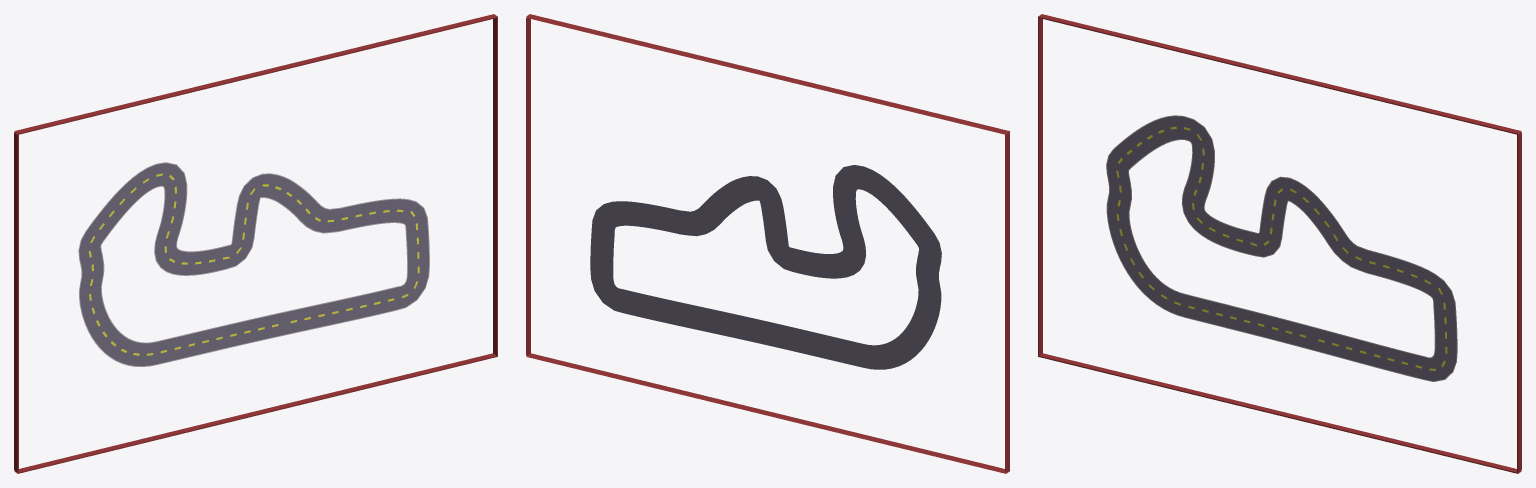
Rendered from track.obj.
The picture shows the model from 3 angles, left to right: view 1: azimuth 30°, elevation 25°; view 2: azimuth 150°, elevation 25°; view 3: azimuth 330°, elevation 25°; orthographic projection.
Bounding box in the file's own units: 22.42 × 15.17 × 0.3.
Materials: 4 (4 with a texture image).
